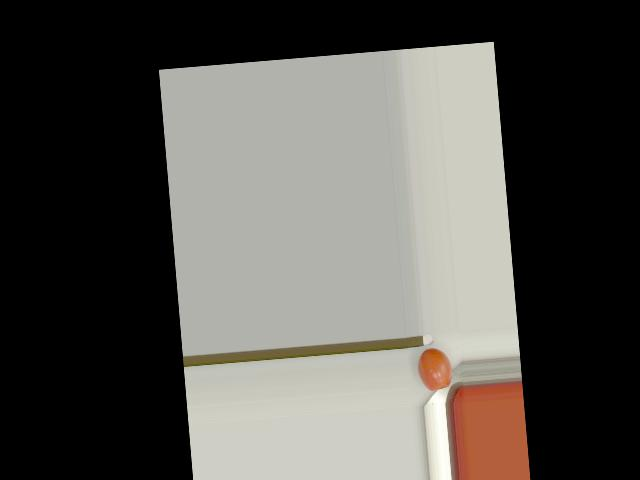tomato: (416, 346, 453, 392)
